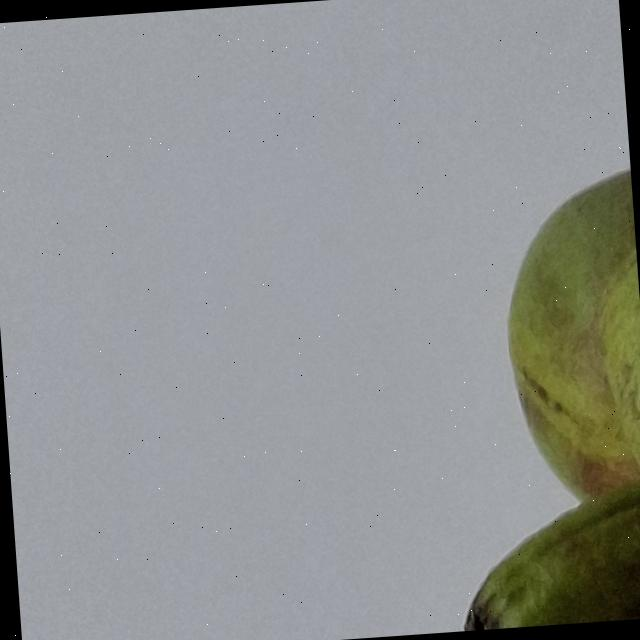mangosteen: (412, 0, 640, 631)
